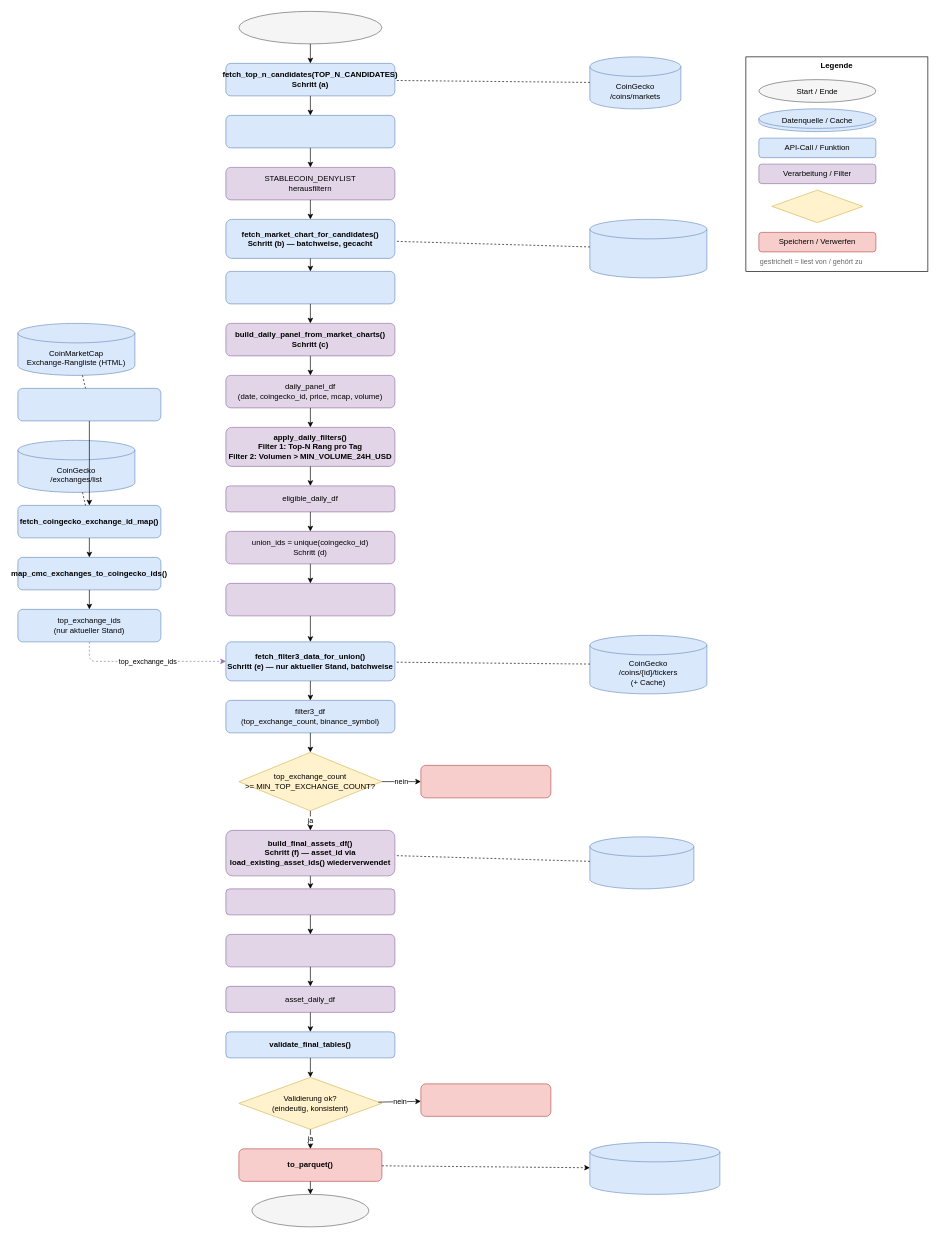
Some shapes in this 939 by 1238 pixel diagram are drawn without their labels. The shapes that lost their labels are listed below. From the top down, each one's box as (x1, y1, x2, y2) in pixels, then its label:
(238, 11, 382, 44): Start: 01_assets.ipynb
(225, 115, 395, 148): candidates_df (heutige Top-N nach Market Cap)
(771, 189, 863, 223): Entscheidung
(589, 219, 707, 278): CoinGecko /coins/{id}/market_chart/range (+ Cache)
(225, 271, 395, 304): market_charts {coingecko_id: Rohantwort}
(17, 388, 161, 421): fetch_top_exchange_names_from_cmc()
(225, 583, 395, 616): union_static_df (je-eligible Coins + Metadaten)
(420, 765, 551, 798): verworfen (nicht in assets.parquet)
(589, 836, 694, 889): bestehende assets.parquet
(225, 888, 395, 915): asset_df
(225, 934, 395, 967): build_asset_daily_df_final() Schritt (g)
(420, 1083, 551, 1116): ValueError (Abbruch, nichts gespeichert)
(589, 1142, 720, 1194): assets.parquet asset_daily.parquet
(251, 1194, 369, 1227): Ende
